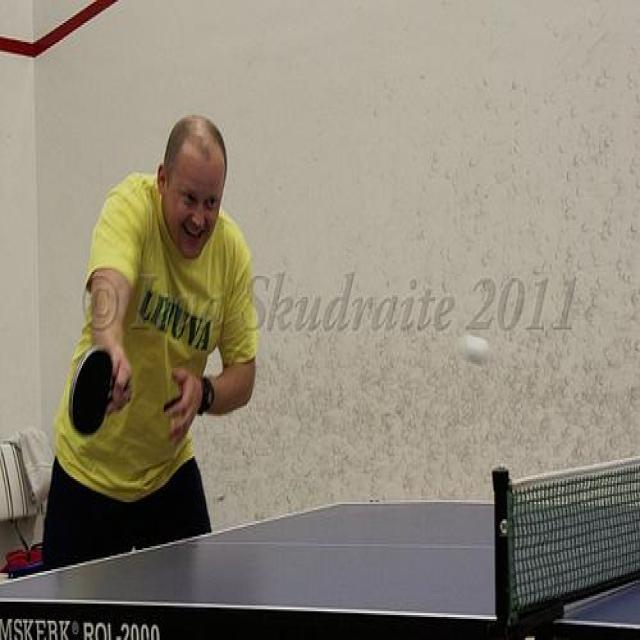ping-pong-ball: (459, 331, 490, 366)
